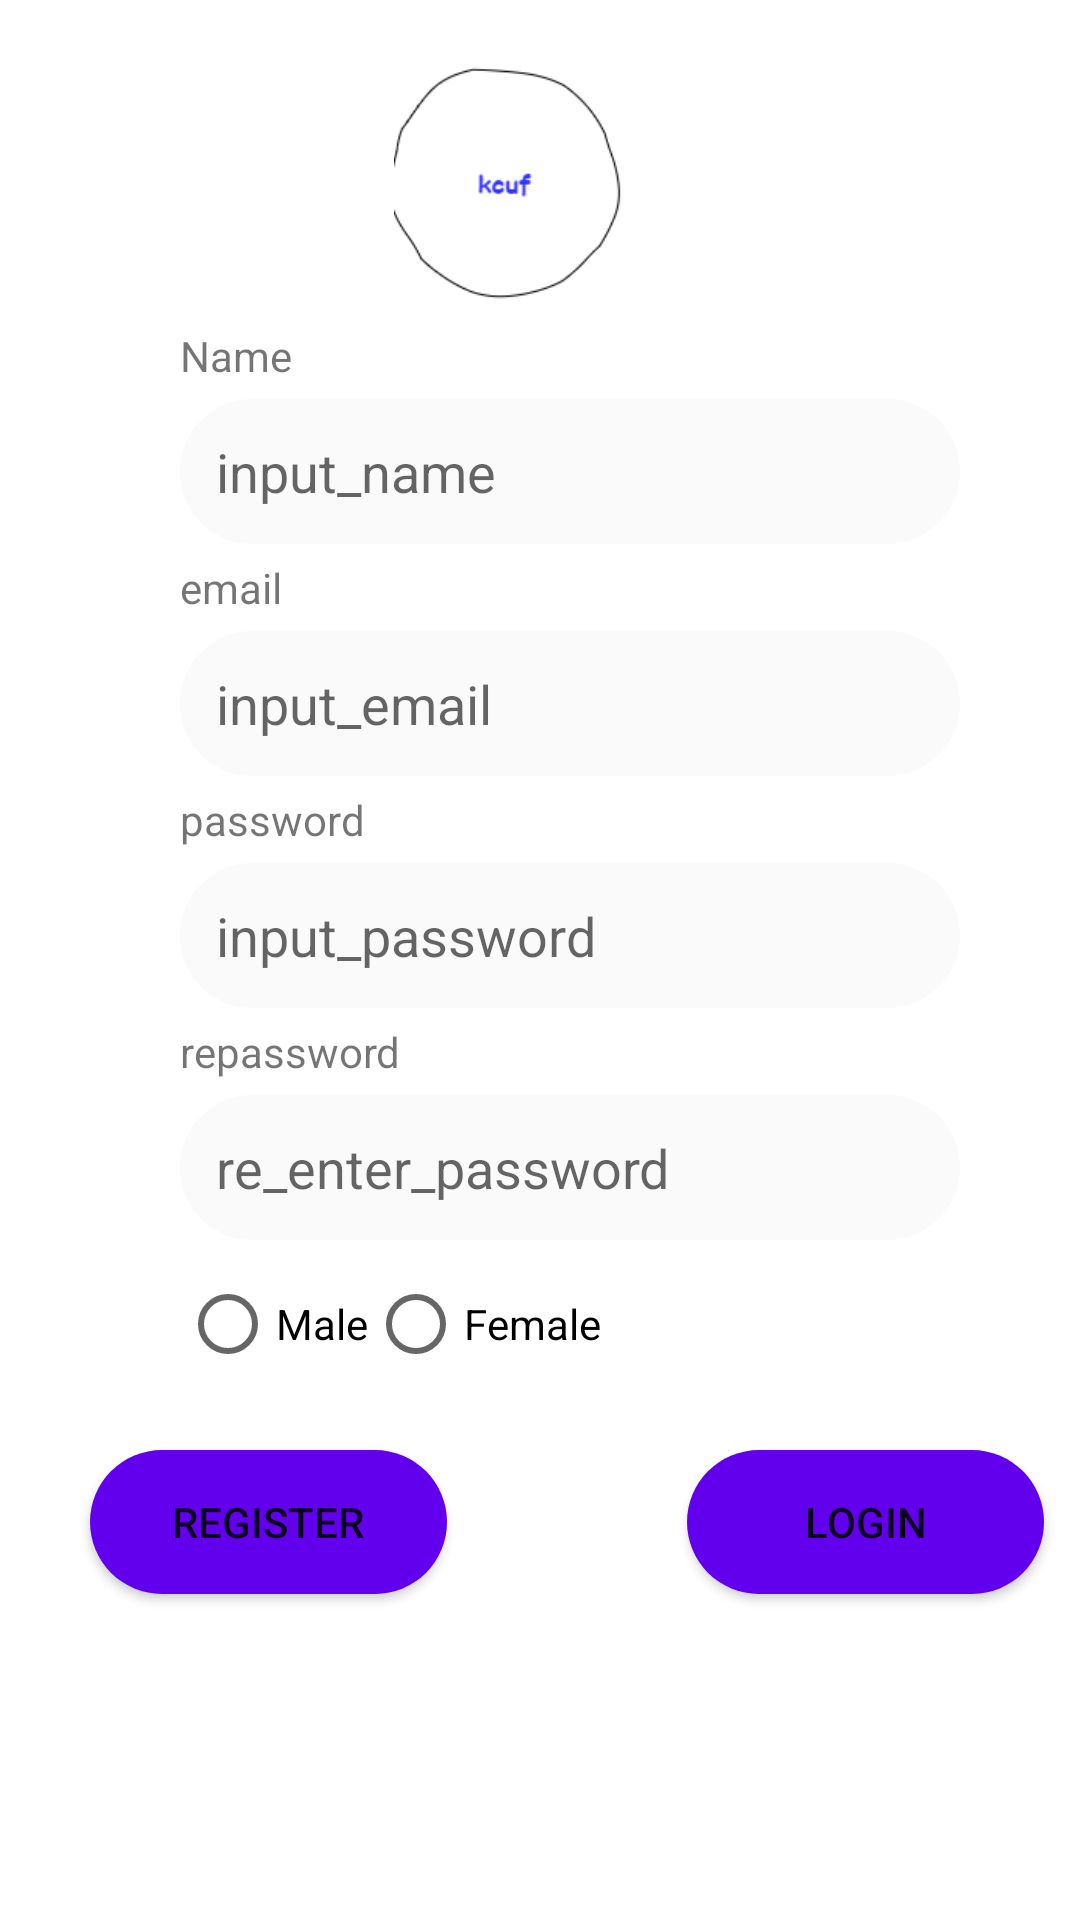

Icons on this 1080*1920 Android screen, each with its box as (x1, y1, x2, y2):
lgo: (394, 68, 621, 299)
